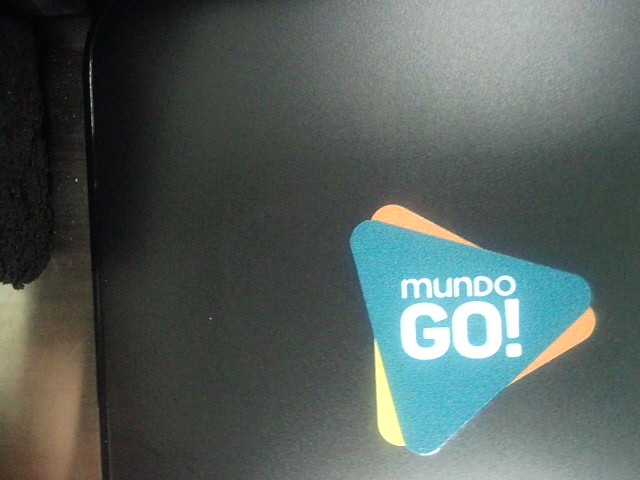AP_IPGMundoGO: (322, 193, 615, 467)
